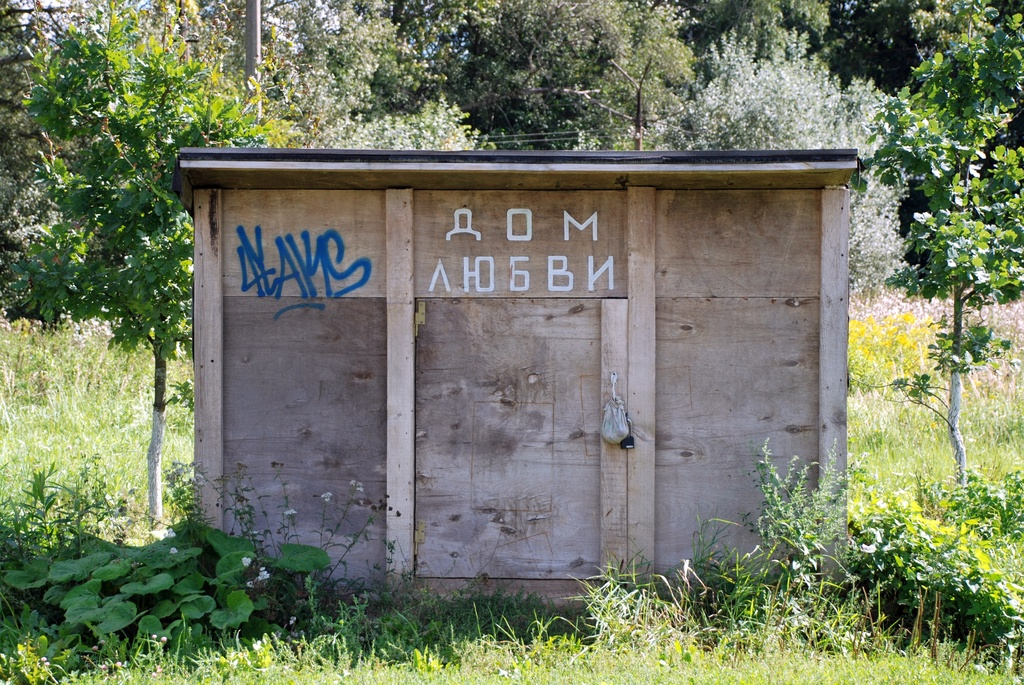Tree: (2, 0, 1023, 677), (851, 23, 1017, 559)
